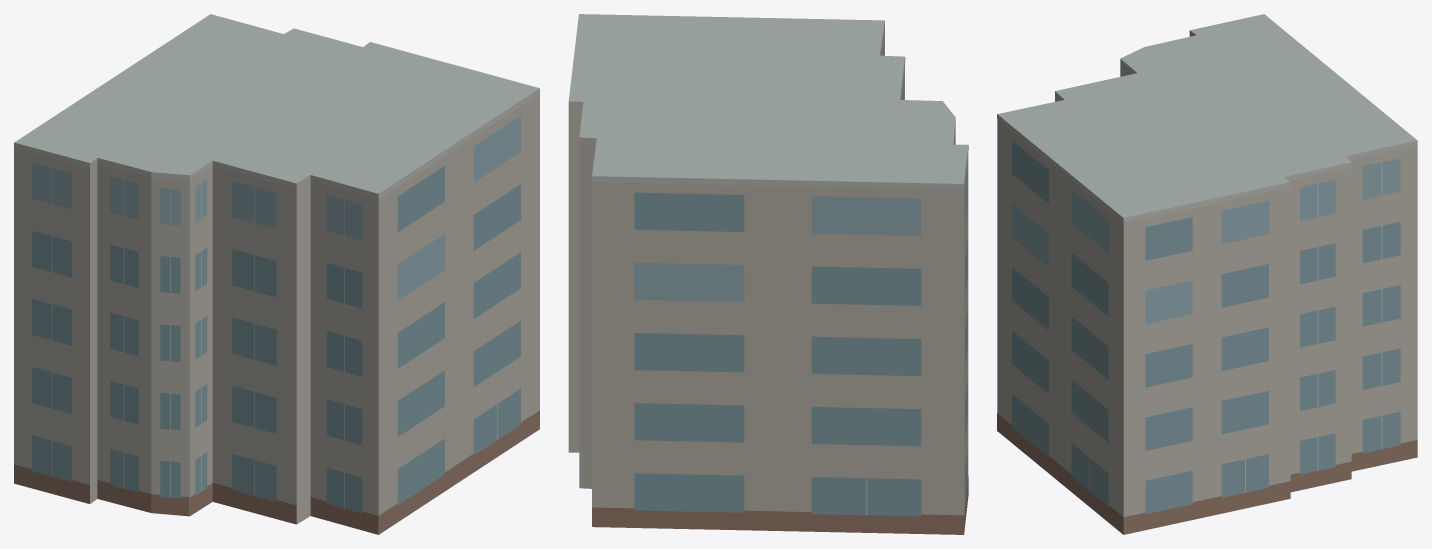
File: survey-upis-32729328.glb
3 views of the same model, side by side, from view 1: azimuth 30°, elevation 25°; view 2: azimuth 150°, elevation 25°; view 3: azimuth 270°, elevation 25° (orthographic). The views are drawn at different scales.
Parts seen in each view (by area): view 1: survey-upis-32729328.tmp; view 2: survey-upis-32729328.tmp; view 3: survey-upis-32729328.tmp.
Part boxes in pixels (left/top/right/bottom): survey-upis-32729328.tmp: left=14, top=14, right=539, bottom=534; survey-upis-32729328.tmp: left=568, top=14, right=968, bottom=534; survey-upis-32729328.tmp: left=997, top=14, right=1417, bottom=534.
Size of the model in its own units: 21.07 by 15.25 by 18.35.
